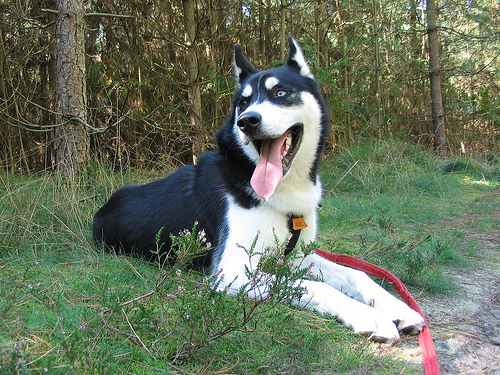dog: (91, 32, 425, 346)
